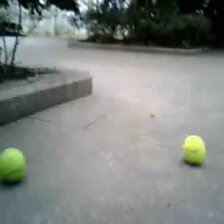tennis: (1, 147, 27, 183), (182, 135, 206, 162)
